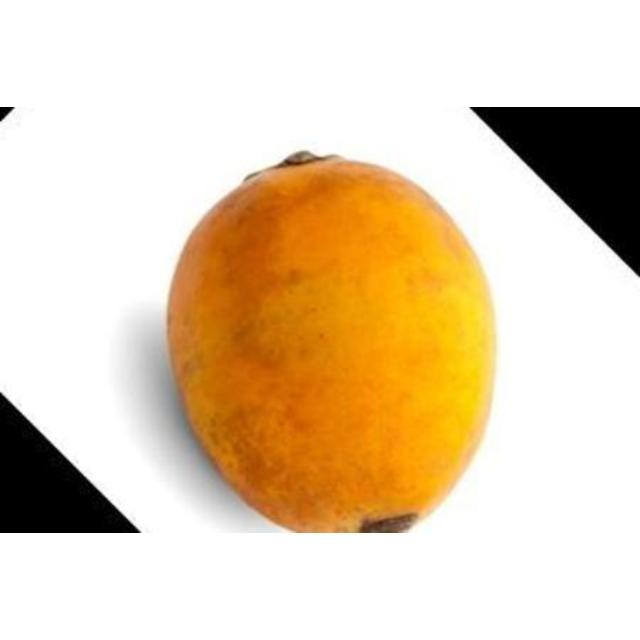good: (164, 153, 501, 532)
